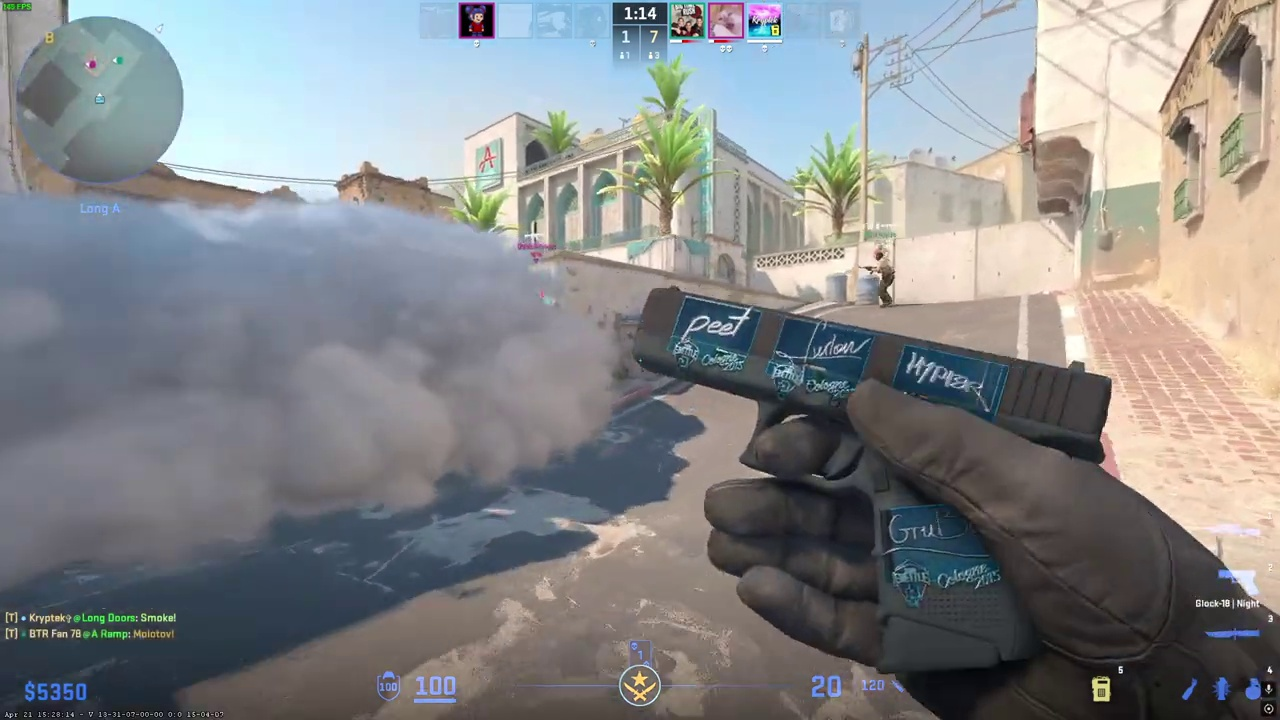Terrorist: (873, 252, 895, 307)
